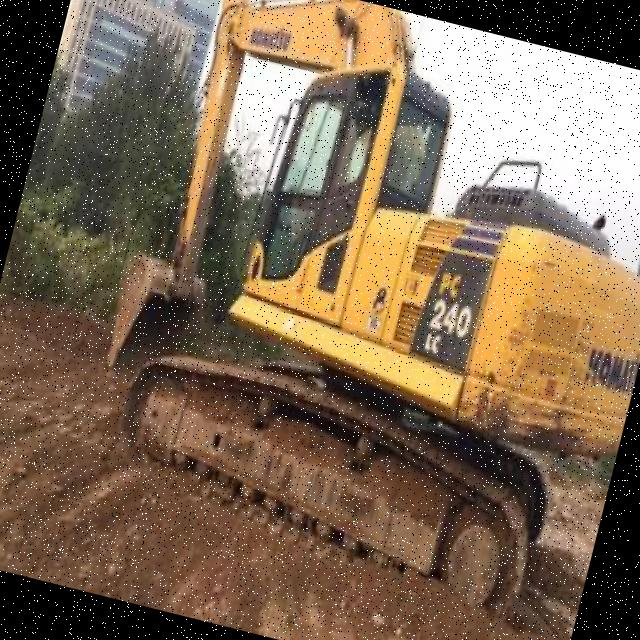Excavator: (56, 0, 640, 630)
